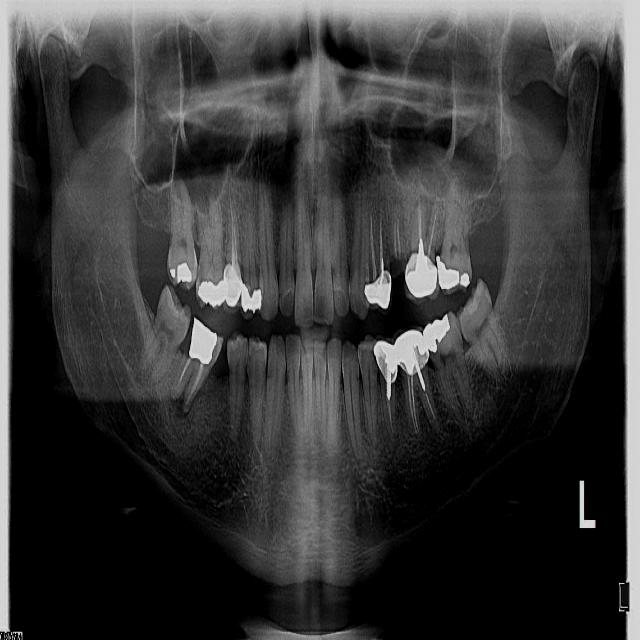Caries: (197, 259, 203, 286)
Crown: (392, 322, 429, 391), (406, 241, 441, 299), (374, 333, 399, 406), (365, 270, 393, 317), (224, 261, 243, 314)
Filling: (189, 318, 217, 364), (423, 314, 450, 353), (436, 255, 459, 292), (198, 280, 226, 309), (241, 283, 262, 316), (178, 260, 191, 284), (459, 273, 469, 287), (170, 268, 176, 280)
Periapical lesion: (168, 395, 190, 418)
Root Canal Treatment: (230, 188, 241, 277), (185, 364, 205, 406), (407, 373, 418, 436), (426, 212, 437, 255), (370, 218, 377, 281), (179, 358, 192, 385), (379, 208, 383, 277), (426, 393, 435, 421), (387, 398, 393, 432), (419, 189, 422, 244)
Root Piece: (390, 204, 407, 278)
